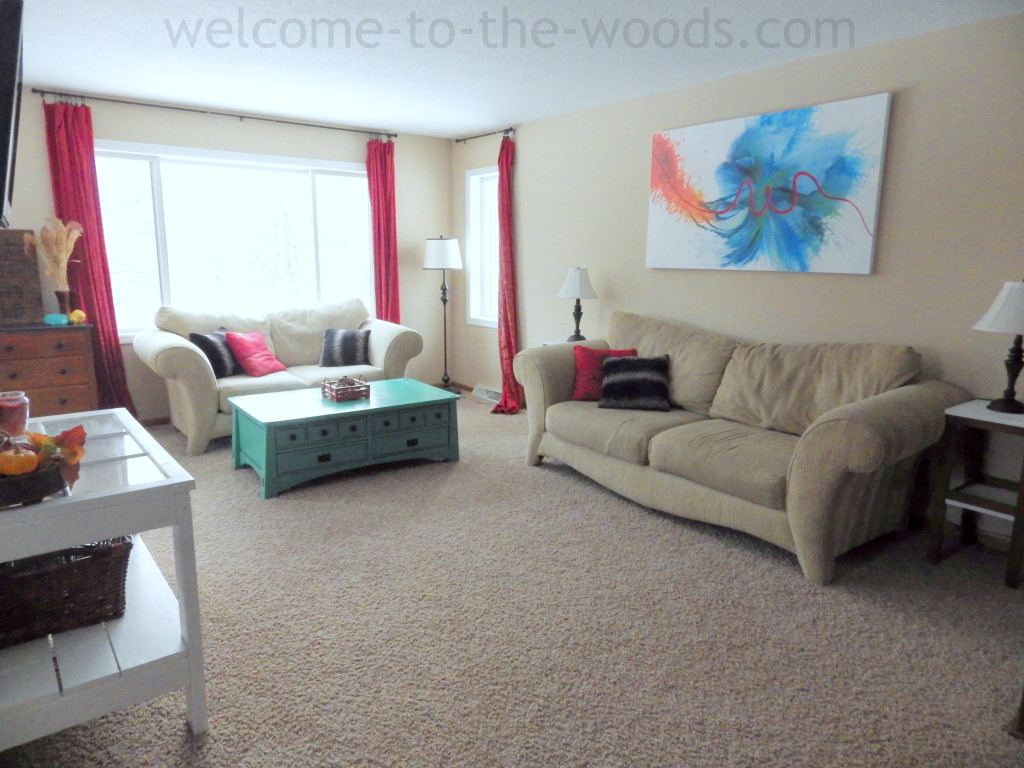biru: (232, 385, 456, 465), (42, 313, 67, 326)
coklat: (1, 561, 123, 624)
merah: (574, 347, 603, 400)
pink: (227, 333, 282, 372)
putih: (975, 281, 1024, 332), (560, 268, 597, 299), (424, 240, 461, 268)
